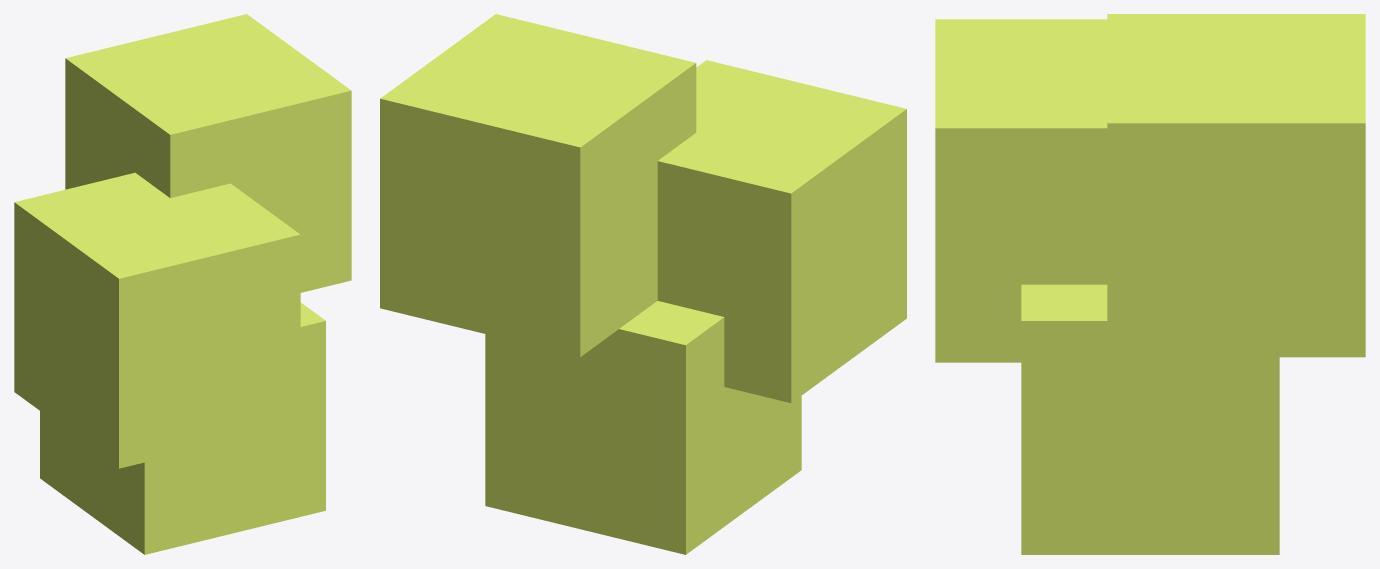
The model's file is Oak1Dehydrated.gltf.
3 renders of one model, left to right at view 1: azimuth 30°, elevation 25°; view 2: azimuth 150°, elevation 25°; view 3: azimuth 270°, elevation 25°, orthographic. The views are drawn at different scales.
Parts seen in each view (by area): view 1: cube (×3); view 2: cube (×3); view 3: cube (×3).
Part boxes in pixels (box(x1,y1,x2,y2)): cube (×3): box(14, 14, 351, 554); cube (×3): box(380, 14, 906, 554); cube (×3): box(935, 14, 1365, 554).
Bounding box in the file's own units: 0.3125 × 0.375 × 0.3125.
1 material, 1 textured.
